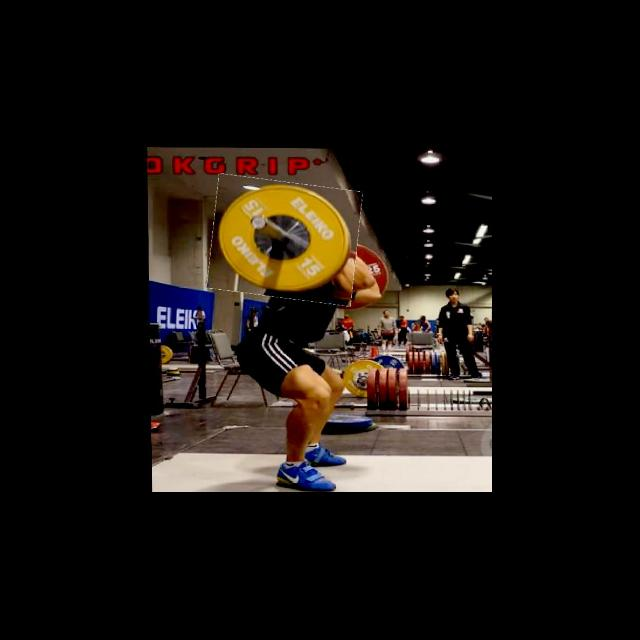barbell: (208, 178, 361, 302)
